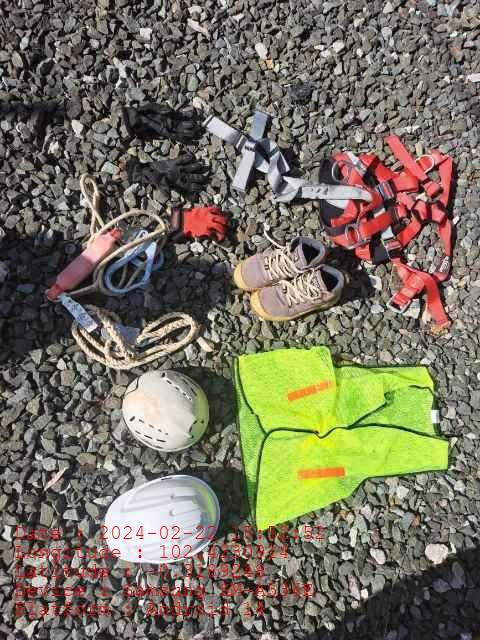ROMPI: (236, 346, 452, 511)
SEPATU: (235, 236, 347, 319)
TAMBANG_SLING: (43, 211, 193, 364)
